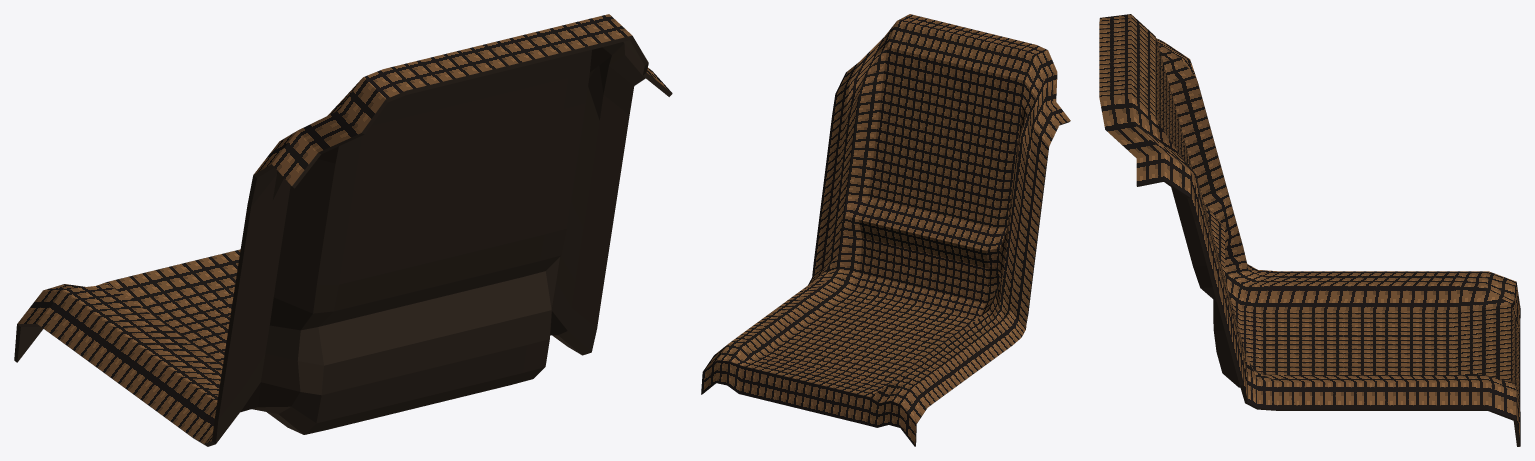
File: seatcover_beaded_modern.glb
3 renders of one model, left to right at view 1: azimuth 30°, elevation 25°; view 2: azimuth 150°, elevation 25°; view 3: azimuth 270°, elevation 25°, orthographic. The views are drawn at different scales.
Parts seen in each view (by area): view 1: SeatCover; view 2: SeatCover; view 3: SeatCover.
Boxes of the visible parts, x1,y1,x2,y2 form: SeatCover: (14,14,672,446); SeatCover: (701,14,1070,446); SeatCover: (1099,14,1520,446).
Size of the model in its own units: 0.51 by 0.61 by 0.7066.
2 materials, 1 textured.
